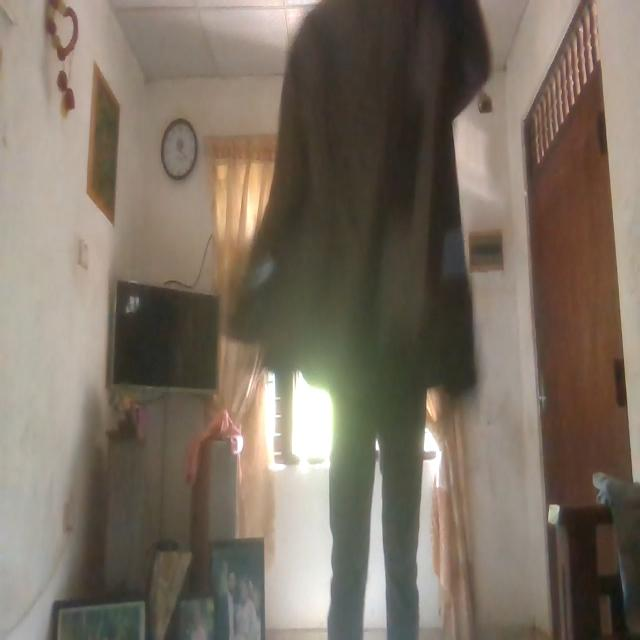Jacket_Wearer: (262, 0, 478, 396)
Person: (261, 0, 501, 640)
